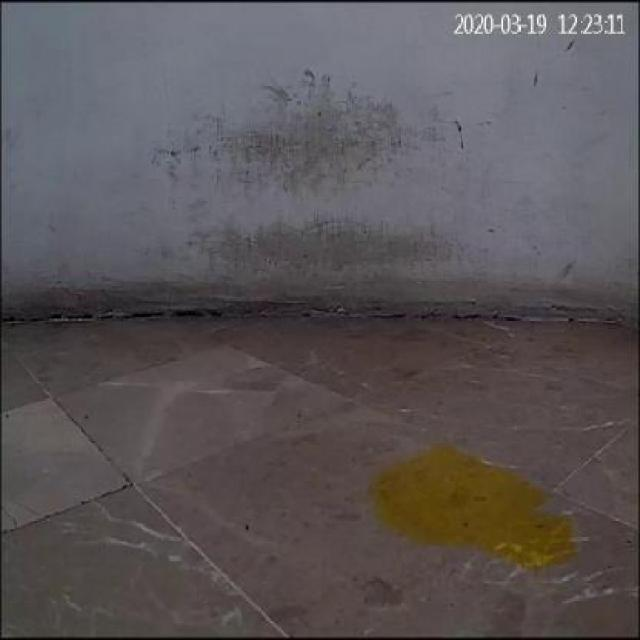spill: (368, 436, 584, 575)
